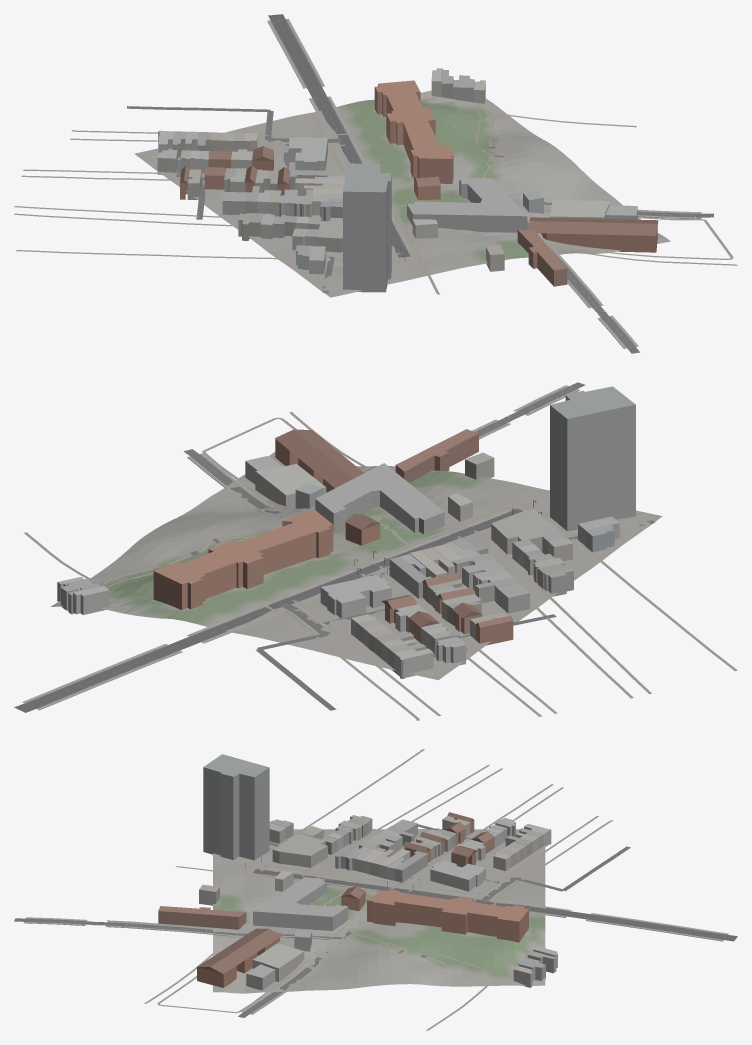
Rendered from tile_-5_-5.glb.
3 views of the same model, one above another, from view 1: azimuth 30°, elevation 25°; view 2: azimuth 150°, elevation 25°; view 3: azimuth 270°, elevation 25° (orthographic). The views are drawn at different scales.
Parts seen in each view (by area): view 1: buildings, terrain, roads, paths, sidewalks; view 2: buildings, terrain, roads, paths, sidewalks; view 3: buildings, terrain, paths, roads, sidewalks.
Part boxes in pixels (left/top/right/bottom): buildings: left=157, top=68, right=658, bottom=292; terrain: left=134, top=90, right=670, bottom=297; roads: left=127, top=14, right=713, bottom=353; paths: left=14, top=105, right=737, bottom=308; sidewalks: left=267, top=18, right=701, bottom=348; buildings: left=57, top=386, right=635, bottom=678; terrain: left=50, top=452, right=662, bottom=680; roads: left=14, top=382, right=654, bottom=712; paths: left=24, top=412, right=737, bottom=720; sidewalks: left=22, top=385, right=579, bottom=710; buildings: left=158, top=754, right=557, bottom=990; terrain: left=213, top=829, right=545, bottom=993; paths: left=107, top=749, right=612, bottom=1030; roads: left=14, top=824, right=737, bottom=1017; sidewalks: left=24, top=867, right=728, bottom=1014.
Bounding box in the file's own units: 469 × 90.72 × 558.
